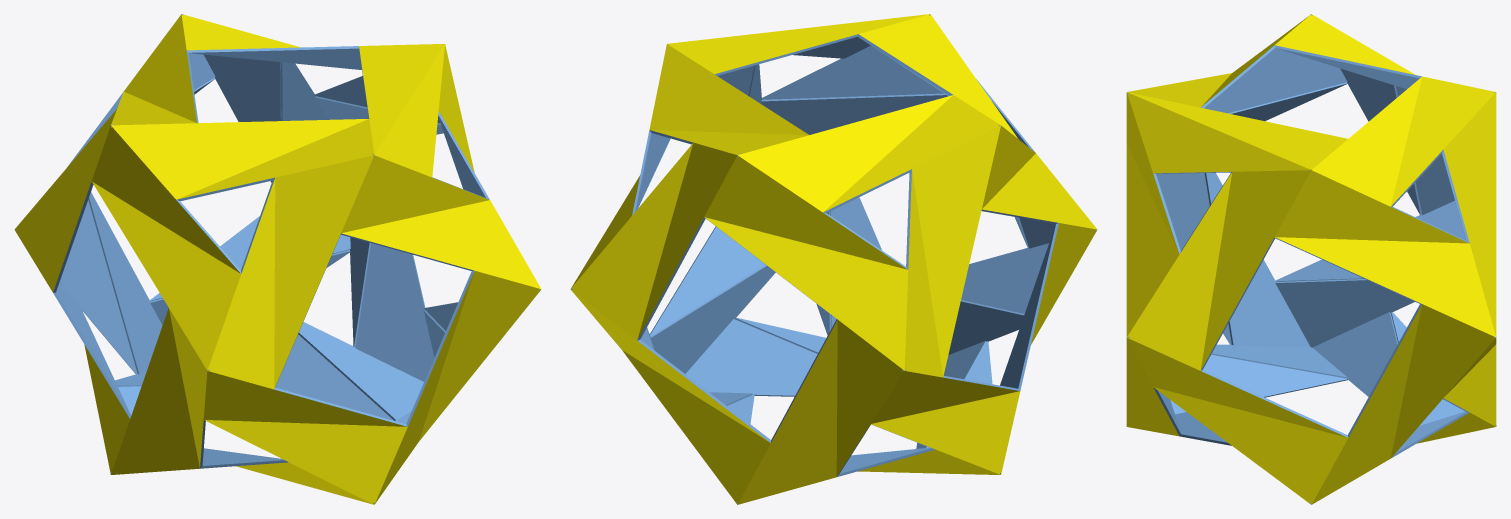
Rendered from Cuboctahedron.glb.
3 views of the same model, side by side, from view 1: azimuth 30°, elevation 25°; view 2: azimuth 150°, elevation 25°; view 3: azimuth 270°, elevation 25° (orthographic). The views are drawn at different scales.
Visible parts, largest first — view 1: root; view 2: root; view 3: root.
Boxes of the visible parts, x1=… form: root: x1=14, y1=14, x2=541, y2=504; root: x1=570, y1=14, x2=1097, y2=504; root: x1=1126, y1=14, x2=1496, y2=504.
Size of the model in its own units: 7.22 by 7.22 by 7.22.
